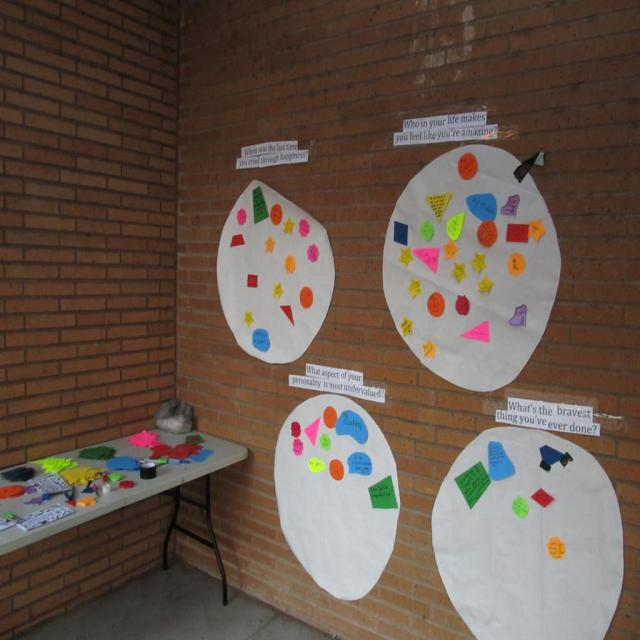Table: (10, 419, 231, 576)
